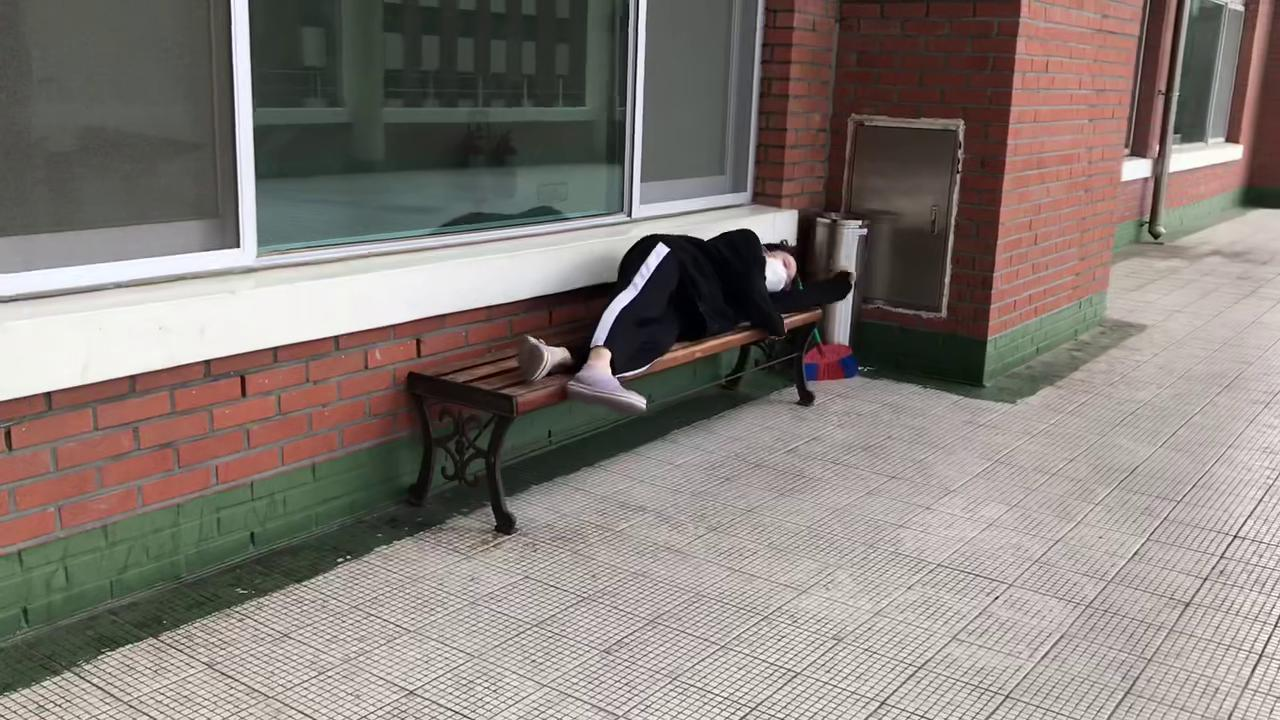sleep: (513, 230, 856, 401)
